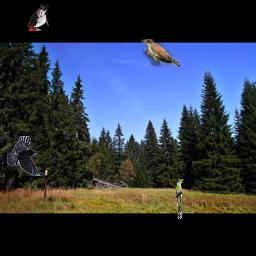Crow: (7, 136, 44, 176)
Cuckoo: (141, 39, 180, 67), (176, 179, 184, 219)
Woodpecker: (28, 4, 49, 31)
